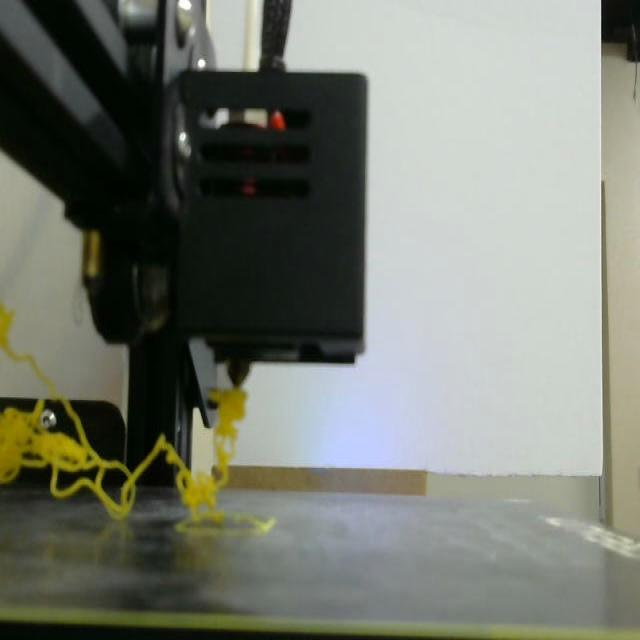spaghetti: (0, 306, 246, 522)
